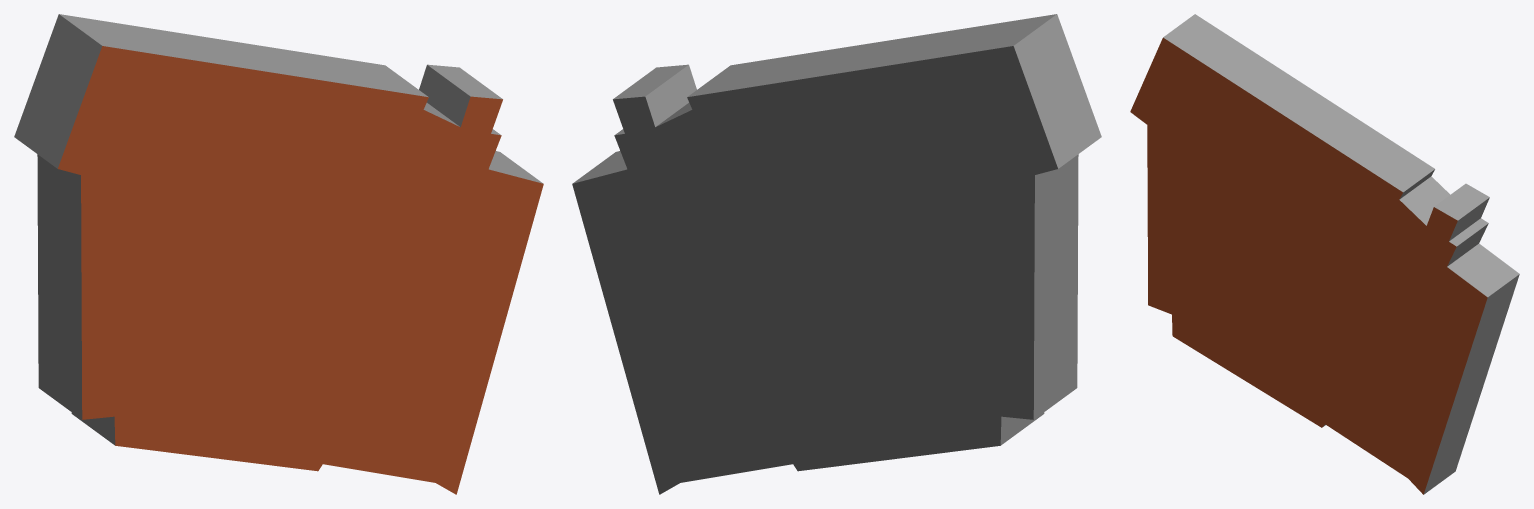
The model's file is construction_2466_assumed_A_Casa_h6m.obj.
3 renders of one model, left to right at view 1: azimuth 30°, elevation 25°; view 2: azimuth 150°, elevation 25°; view 3: azimuth 330°, elevation 25°, orthographic. The views are drawn at different scales.
Parts seen in each view (by area): view 1: construction_2466_assumed_A_Casa; view 2: construction_2466_assumed_A_Casa; view 3: construction_2466_assumed_A_Casa.
Part boxes in pixels (x1=…): construction_2466_assumed_A_Casa: x1=14, y1=14, x2=543, y2=494; construction_2466_assumed_A_Casa: x1=572, y1=14, x2=1101, y2=494; construction_2466_assumed_A_Casa: x1=1130, y1=14, x2=1519, y2=494.
Bounding box in the file's own units: 38.63 × 40.66 × 6.
